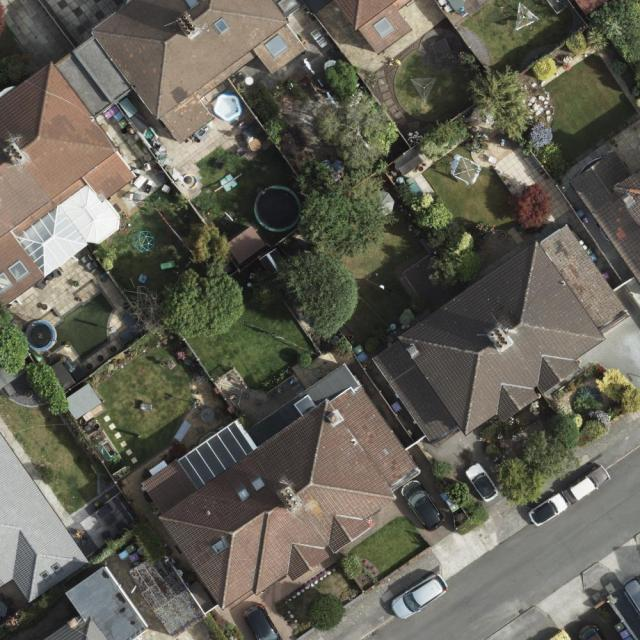roof: (0, 0, 308, 306), (142, 363, 416, 612), (375, 222, 630, 444), (0, 432, 91, 601), (571, 153, 640, 285), (43, 563, 149, 640), (336, 0, 413, 55)
skylight: (176, 419, 260, 491), (264, 33, 290, 60), (294, 394, 316, 418), (373, 17, 395, 39), (211, 536, 231, 556), (214, 16, 231, 35), (237, 487, 250, 503), (252, 478, 266, 491), (50, 561, 63, 573), (39, 569, 51, 581), (186, 0, 201, 9)
